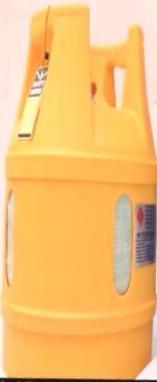cylinder: (1, 0, 157, 382)
